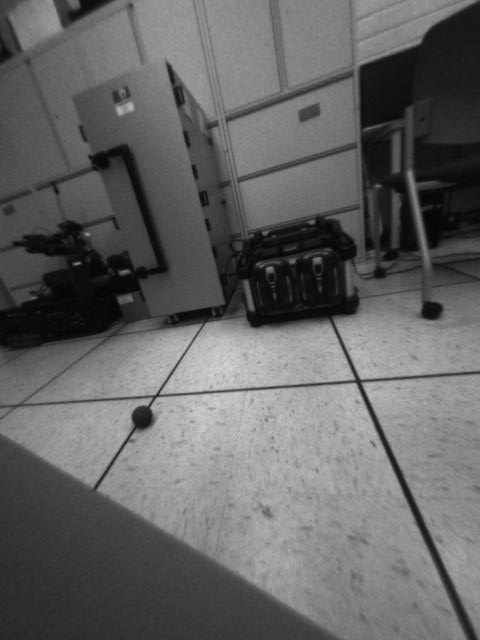dogtoy: (124, 400, 163, 430)
